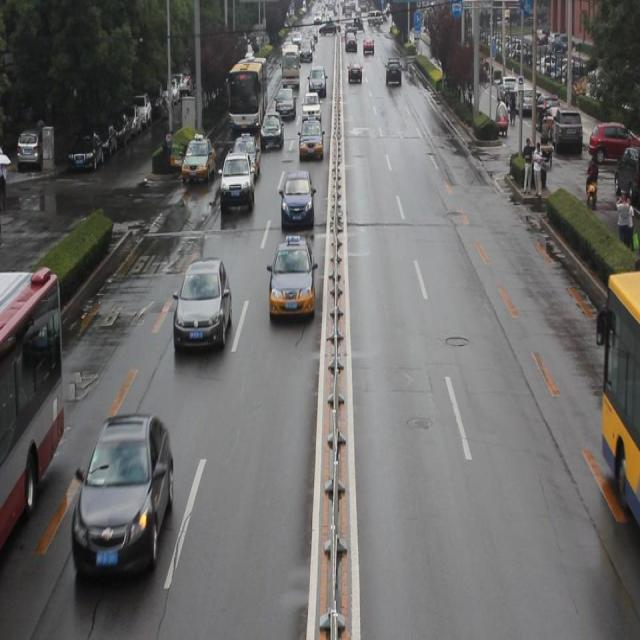car: (74, 413, 175, 577), (174, 257, 232, 356), (267, 237, 317, 319), (219, 152, 254, 209), (280, 170, 314, 228), (183, 134, 216, 184), (232, 134, 260, 184), (298, 119, 323, 160), (259, 111, 283, 149), (300, 91, 322, 124), (275, 87, 295, 120)
van: (1, 267, 64, 546), (598, 263, 640, 524), (228, 54, 267, 133)
